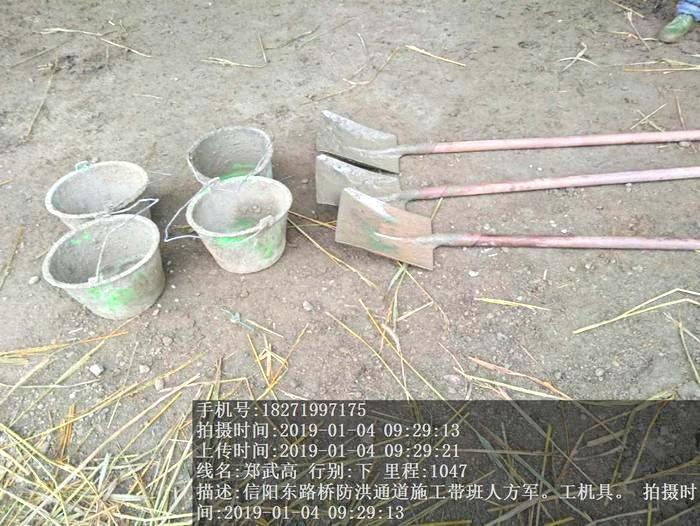SNT: (38, 223, 174, 317), (184, 180, 297, 272), (35, 158, 160, 219), (182, 125, 276, 184)
TQ: (333, 183, 697, 280), (314, 107, 700, 166)
